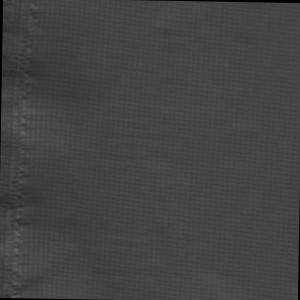Wrinkle: (8, 60, 124, 300)
